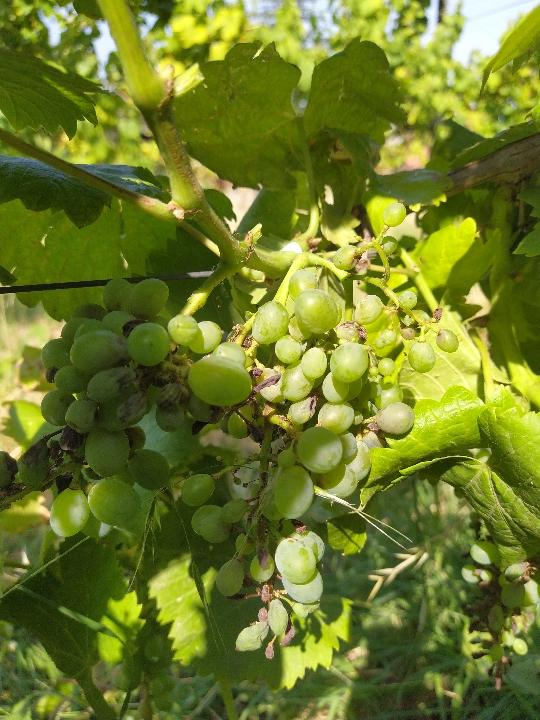grape: (36, 202, 462, 660)
